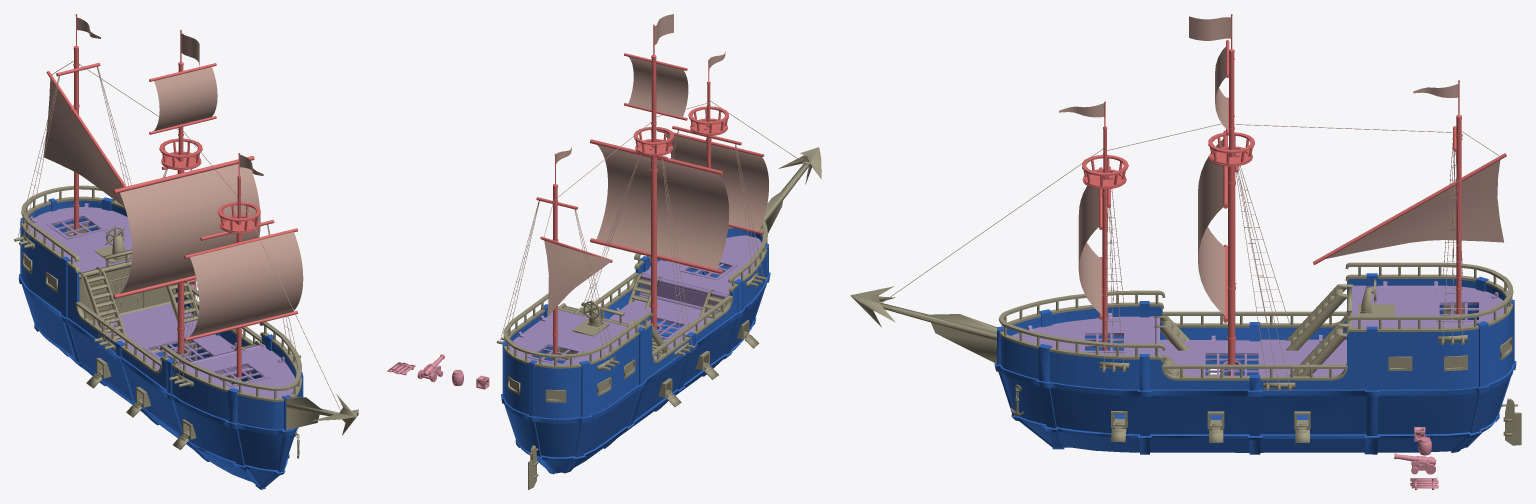
Rendered from BarcoConAriete.fbx.
3 renders of one model, left to right at view 1: azimuth 30°, elevation 25°; view 2: azimuth 150°, elevation 25°; view 3: azimuth 270°, elevation 25°, orthographic. The views are drawn at different scales.
Parts seen in each view (by area): view 1: StylShip_Body, StylShip_SailMid1, StylShip_SailFront, StylShip_SailBack, StylShip_FloorBackTop, StylShip_FloorMid, StylShip_MastMid, StylShip_FloorFront, StylShip_SailMid2, StylShip_MastFront, StylShip_FencingFront, StylShip_StairsTop (+14 smaller); view 2: StylShip_Body, StylShip_SailMid1, StylShip_SailFront, StylShip_MastMid, StylShip_FloorFront, StylShip_FloorBackTop, StylShip_SailMid2, StylShip_SailBack, StylShip_FencingBack, StylShip_MastFront, StylShip_FloorMid, StylShip_FencingMid (+11 smaller); view 3: StylShip_Body, StylShip_SailBack, StylShip_FloorBackTop, StylShip_FloorMid, StylShip_MastMid, StylShip_FencingBack, StylShip_FencingMid, StylShip_FloorFront, StylShip_FencingFront, StylShip_SailMid1, StylShip_Prow, StylShip_MastFront (+15 smaller).
Boxes of the visible parts, left/top/right/bottom form: StylShip_Body: left=18, top=197, right=303, bottom=489; StylShip_SailMid1: left=120, top=164, right=260, bottom=293; StylShip_SailFront: left=189, top=232, right=303, bottom=336; StylShip_SailBack: left=43, top=79, right=124, bottom=207; StylShip_FloorBackTop: left=28, top=203, right=131, bottom=272; StylShip_FloorMid: left=95, top=303, right=236, bottom=369; StylShip_MastMid: left=113, top=30, right=254, bottom=361; StylShip_FloorFront: left=178, top=344, right=295, bottom=397; StylShip_SailMid2: left=154, top=67, right=217, bottom=130; StylShip_MastFront: left=184, top=153, right=297, bottom=380; StylShip_FencingFront: left=160, top=321, right=301, bottom=401; StylShip_StairsTop: left=79, top=267, right=198, bottom=339; StylShip_Body: left=501, top=228, right=770, bottom=474; StylShip_SailMid1: left=596, top=145, right=729, bottom=268; StylShip_SailFront: left=666, top=133, right=768, bottom=230; StylShip_MastMid: left=590, top=24, right=722, bottom=330; StylShip_FloorFront: left=639, top=235, right=761, bottom=313; StylShip_FloorBackTop: left=509, top=310, right=635, bottom=364; StylShip_SailMid2: left=628, top=57, right=688, bottom=117; StylShip_SailBack: left=544, top=240, right=611, bottom=316; StylShip_FencingBack: left=503, top=293, right=653, bottom=368; StylShip_MastFront: left=657, top=60, right=764, bottom=276; StylShip_FloorMid: left=609, top=295, right=717, bottom=359; StylShip_FencingMid: left=586, top=272, right=732, bottom=362; StylShip_Body: left=994, top=273, right=1516, bottom=454; StylShip_SailBack: left=1326, top=160, right=1504, bottom=258; StylShip_FloorBackTop: left=1352, top=281, right=1504, bottom=327; StylShip_FloorMid: left=1160, top=335, right=1346, bottom=376; StylShip_MastMid: left=1208, top=14, right=1254, bottom=375; StylShip_FencingBack: left=1345, top=262, right=1513, bottom=334; StylShip_FencingMid: left=1161, top=311, right=1347, bottom=380; StylShip_FloorFront: left=1011, top=313, right=1159, bottom=355; StylShip_FencingFront: left=998, top=290, right=1165, bottom=361; StylShip_SailMid1: left=1198, top=139, right=1225, bottom=315; StylShip_Prow: left=850, top=286, right=997, bottom=363; StylShip_MastFront: left=1082, top=101, right=1128, bottom=350.
Bounding box in the file's own units: 2674 × 3955 × 5544.
